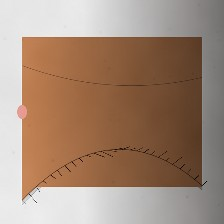pinguecula_lesion: (31, 103, 73, 136)
